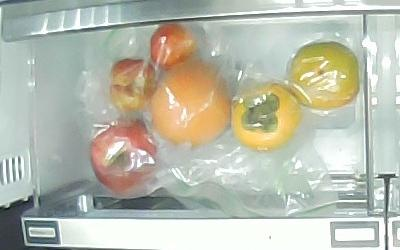apple_vinyl: (89, 117, 159, 193)
grapefruit_vinyl: (150, 61, 232, 147)
persimmon_vinyl: (289, 41, 361, 112), (231, 84, 301, 150)
prune_vinyl: (108, 59, 158, 113), (151, 24, 196, 73)
